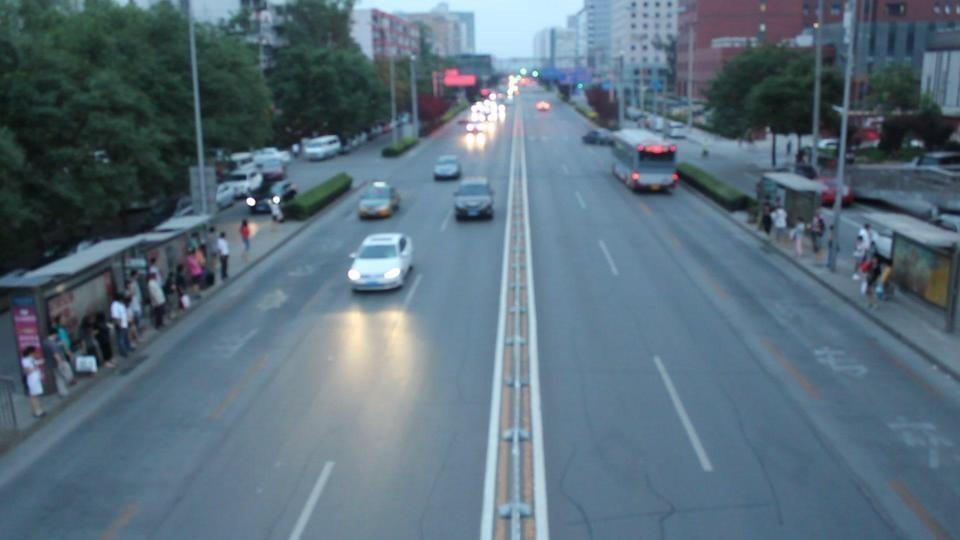car: (346, 232, 416, 292), (246, 175, 296, 214), (452, 178, 496, 221), (356, 181, 401, 220), (215, 175, 259, 207), (817, 178, 853, 208), (300, 135, 340, 162), (252, 149, 286, 178), (433, 155, 462, 181), (582, 129, 611, 146), (536, 100, 551, 113)
